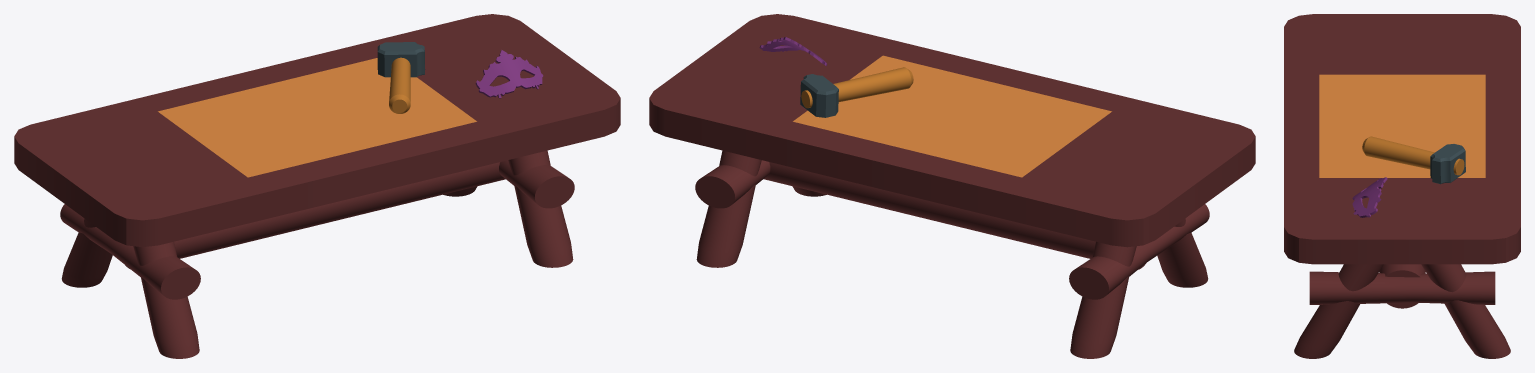
Rendered from SM_Workbench.fbx.
3 renders of one model, left to right at view 1: azimuth 30°, elevation 25°; view 2: azimuth 150°, elevation 25°; view 3: azimuth 270°, elevation 25°, orthographic. The views are drawn at different scales.
Parts seen in each view (by area): view 1: SM_Workbench; view 2: SM_Workbench; view 3: SM_Workbench.
Part boxes in pixels (left/top/right/bottom): SM_Workbench: left=14, top=14, right=620, bottom=358; SM_Workbench: left=649, top=14, right=1255, bottom=358; SM_Workbench: left=1284, top=14, right=1520, bottom=358.
Size of the model in its own units: 200 by 69.74 by 88.63.
